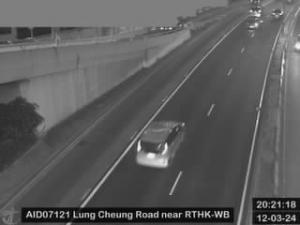truck: (251, 1, 261, 6)
vehicle: (134, 120, 186, 168), (246, 16, 264, 30), (270, 8, 284, 18), (248, 6, 262, 16)
